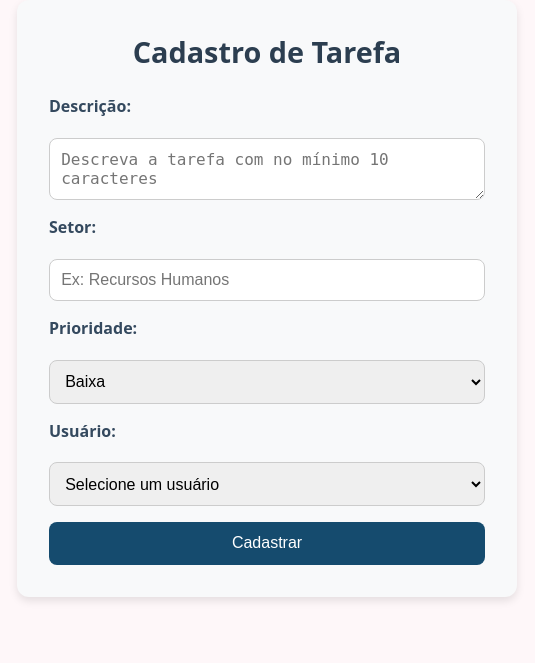
Test case: CadastroTarefa - Testes completos › 4. Deve exibir erro se a descrição tiver caracteres inválidos
The image size is (535, 663).
Step 1. Type "Tarefa #$%" into the text box labelled "Descrição:" → (267, 169), box [49,138,485,200]
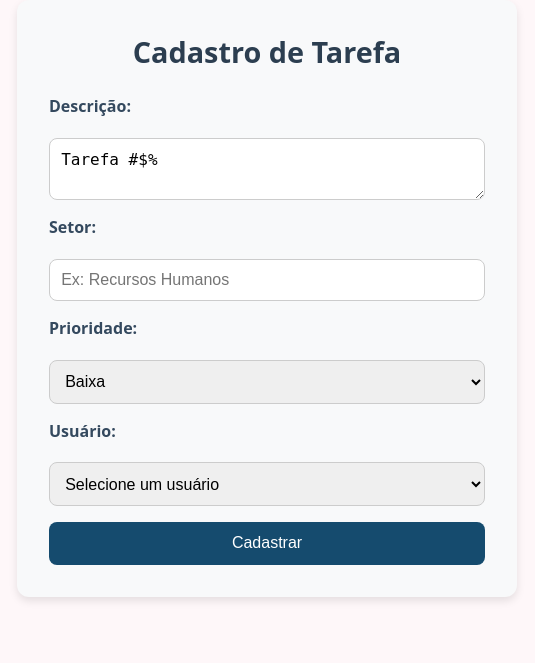
Step 2. Type "TI" into the field labelled "Setor:" → (267, 280), box [49,259,485,301]
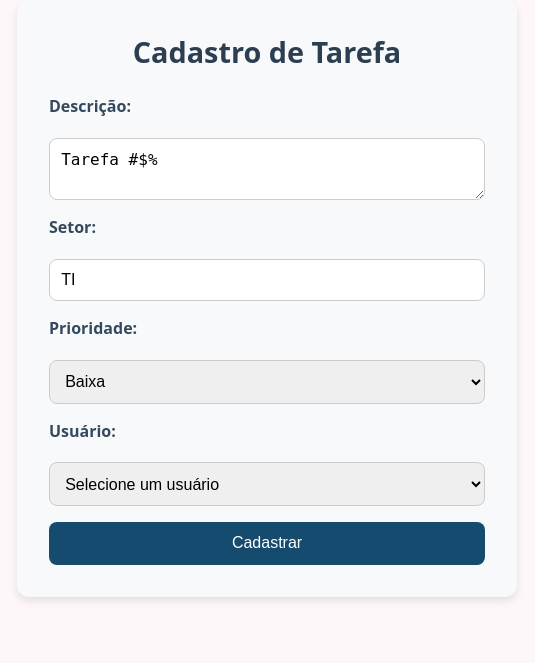
Step 3. Select "1" in the dropdown labelled "Usuário:" → (267, 484), box [49,462,485,506]
Step 4. Click the button → (267, 544), box [49,522,485,565]
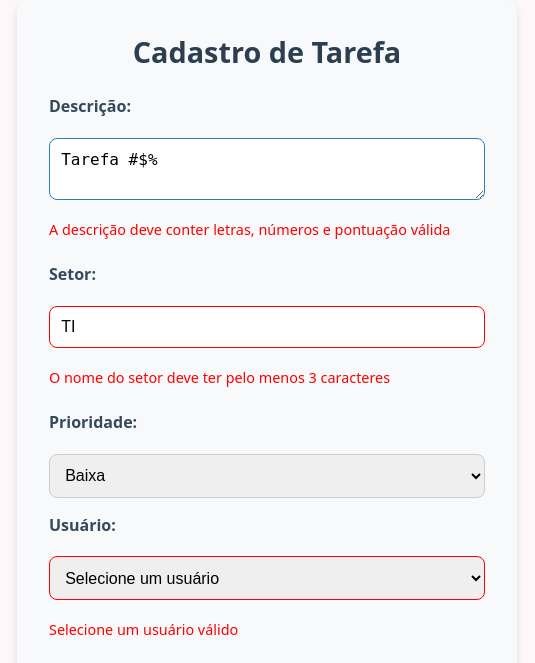
Expected: the text "A descrição deve conter letras, números e pontuação válida" is shown, [49,220,485,239]
